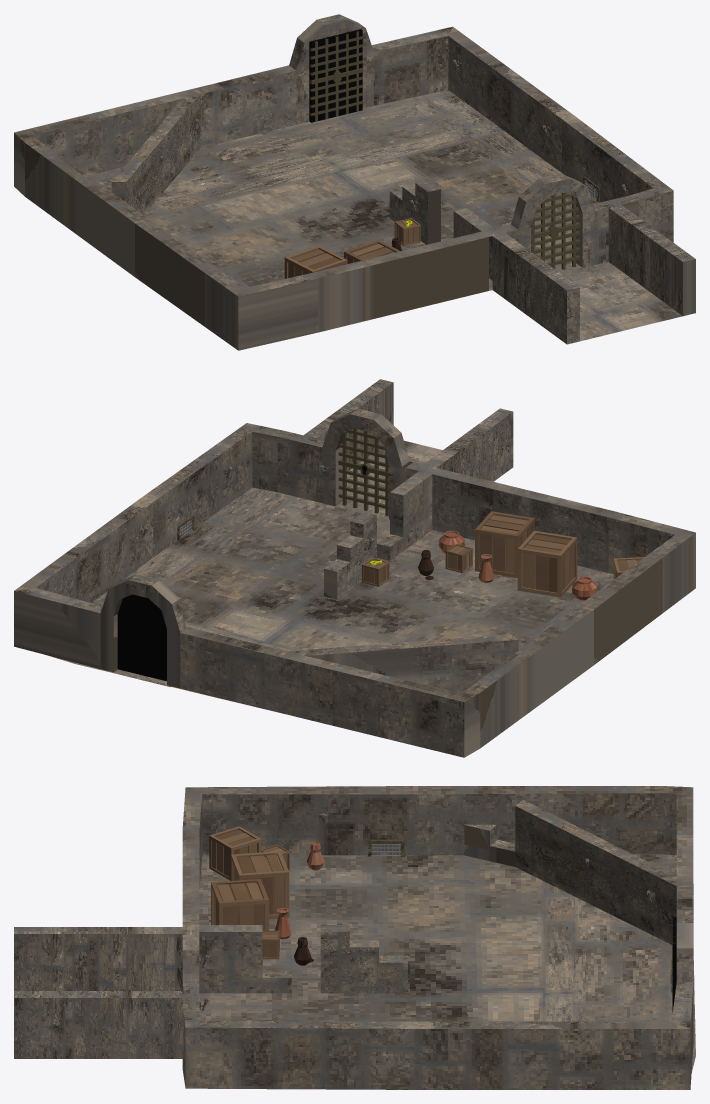
The picture shows the model from 3 angles, top to bottom: view 1: azimuth 30°, elevation 25°; view 2: azimuth 150°, elevation 25°; view 3: azimuth 270°, elevation 25°; orthographic projection. The views are drawn at different scales.
Parts seen in each view (by area): view 1: Walls, Plane, Exit Gate.001, Entrance, Exit Gate, Cube.014, Cube.004, Cube.019; view 2: Walls, Plane, Entrance, Cube.014, Exit Gate, Cube.004, Cube.024, Cube.019; view 3: Walls, Plane, Cube.004, Cube.014, Cube.002, Cube.024.
Part boxes in pixels (bbox=[...]): Walls: bbox=[14, 14, 695, 350]; Plane: bbox=[88, 90, 682, 341]; Exit Gate.001: bbox=[309, 31, 363, 121]; Entrance: bbox=[309, 29, 362, 122]; Exit Gate: bbox=[531, 192, 580, 269]; Cube.014: bbox=[284, 245, 347, 278]; Cube.004: bbox=[344, 239, 400, 263]; Cube.019: bbox=[394, 218, 420, 245]; Walls: bbox=[14, 379, 695, 757]; Plane: bbox=[47, 440, 613, 708]; Entrance: bbox=[117, 594, 170, 686]; Cube.014: bbox=[517, 530, 577, 597]; Exit Gate: bbox=[338, 428, 388, 515]; Cube.004: bbox=[475, 511, 534, 577]; Cube.024: bbox=[445, 544, 472, 573]; Cube.019: bbox=[362, 557, 389, 586]; Walls: bbox=[14, 786, 693, 1089]; Plane: bbox=[199, 854, 695, 1072]; Cube.004: bbox=[211, 879, 269, 930]; Cube.014: bbox=[231, 851, 289, 919]; Cube.002: bbox=[209, 826, 261, 880]; Cube.024: bbox=[262, 930, 279, 959].
Size of what is drawn, in the model's own units: 17.05 by 3.61 by 20.24.
10 materials, 7 textured.
